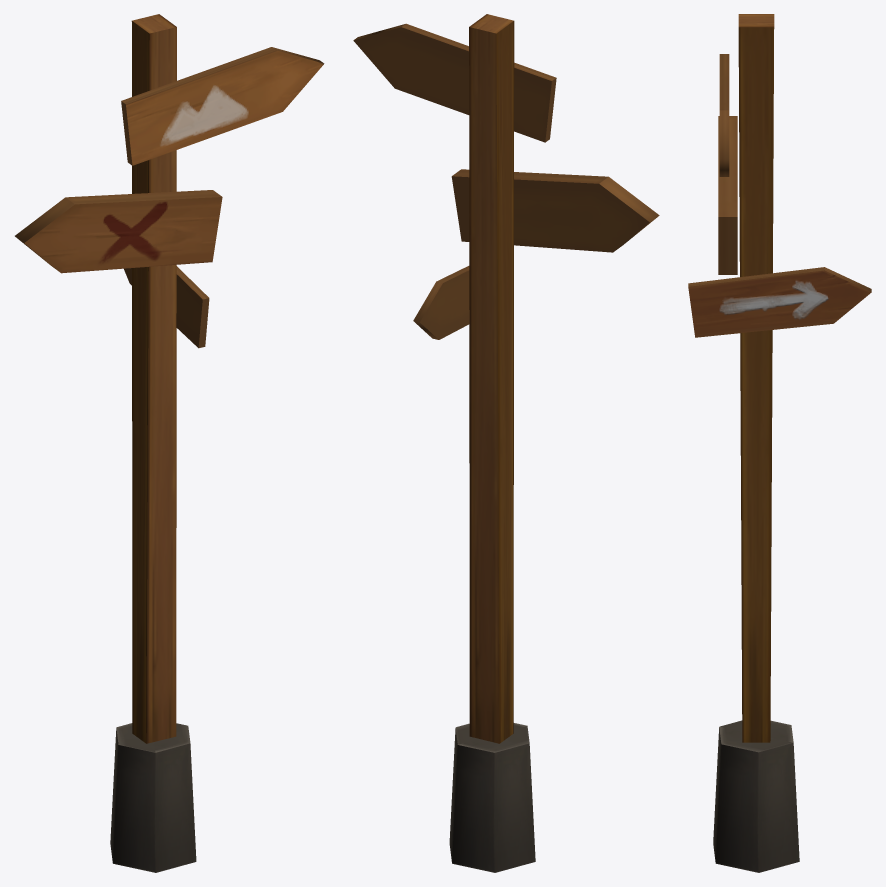
File: OutdoorM_signage_a.FBX
3 renders of one model, left to right at view 1: azimuth 30°, elevation 25°; view 2: azimuth 150°, elevation 25°; view 3: azimuth 270°, elevation 25°, orthographic.
Visible parts, largest first — view 1: OutdoorM_signage_a; view 2: OutdoorM_signage_a; view 3: OutdoorM_signage_a.
Part boxes in pixels (x1,y1,x2,y2): OutdoorM_signage_a: (15, 14, 324, 872); OutdoorM_signage_a: (353, 14, 659, 872); OutdoorM_signage_a: (688, 14, 871, 872).
Bounding box in the file's own units: 9.36 × 24.61 × 4.92.
